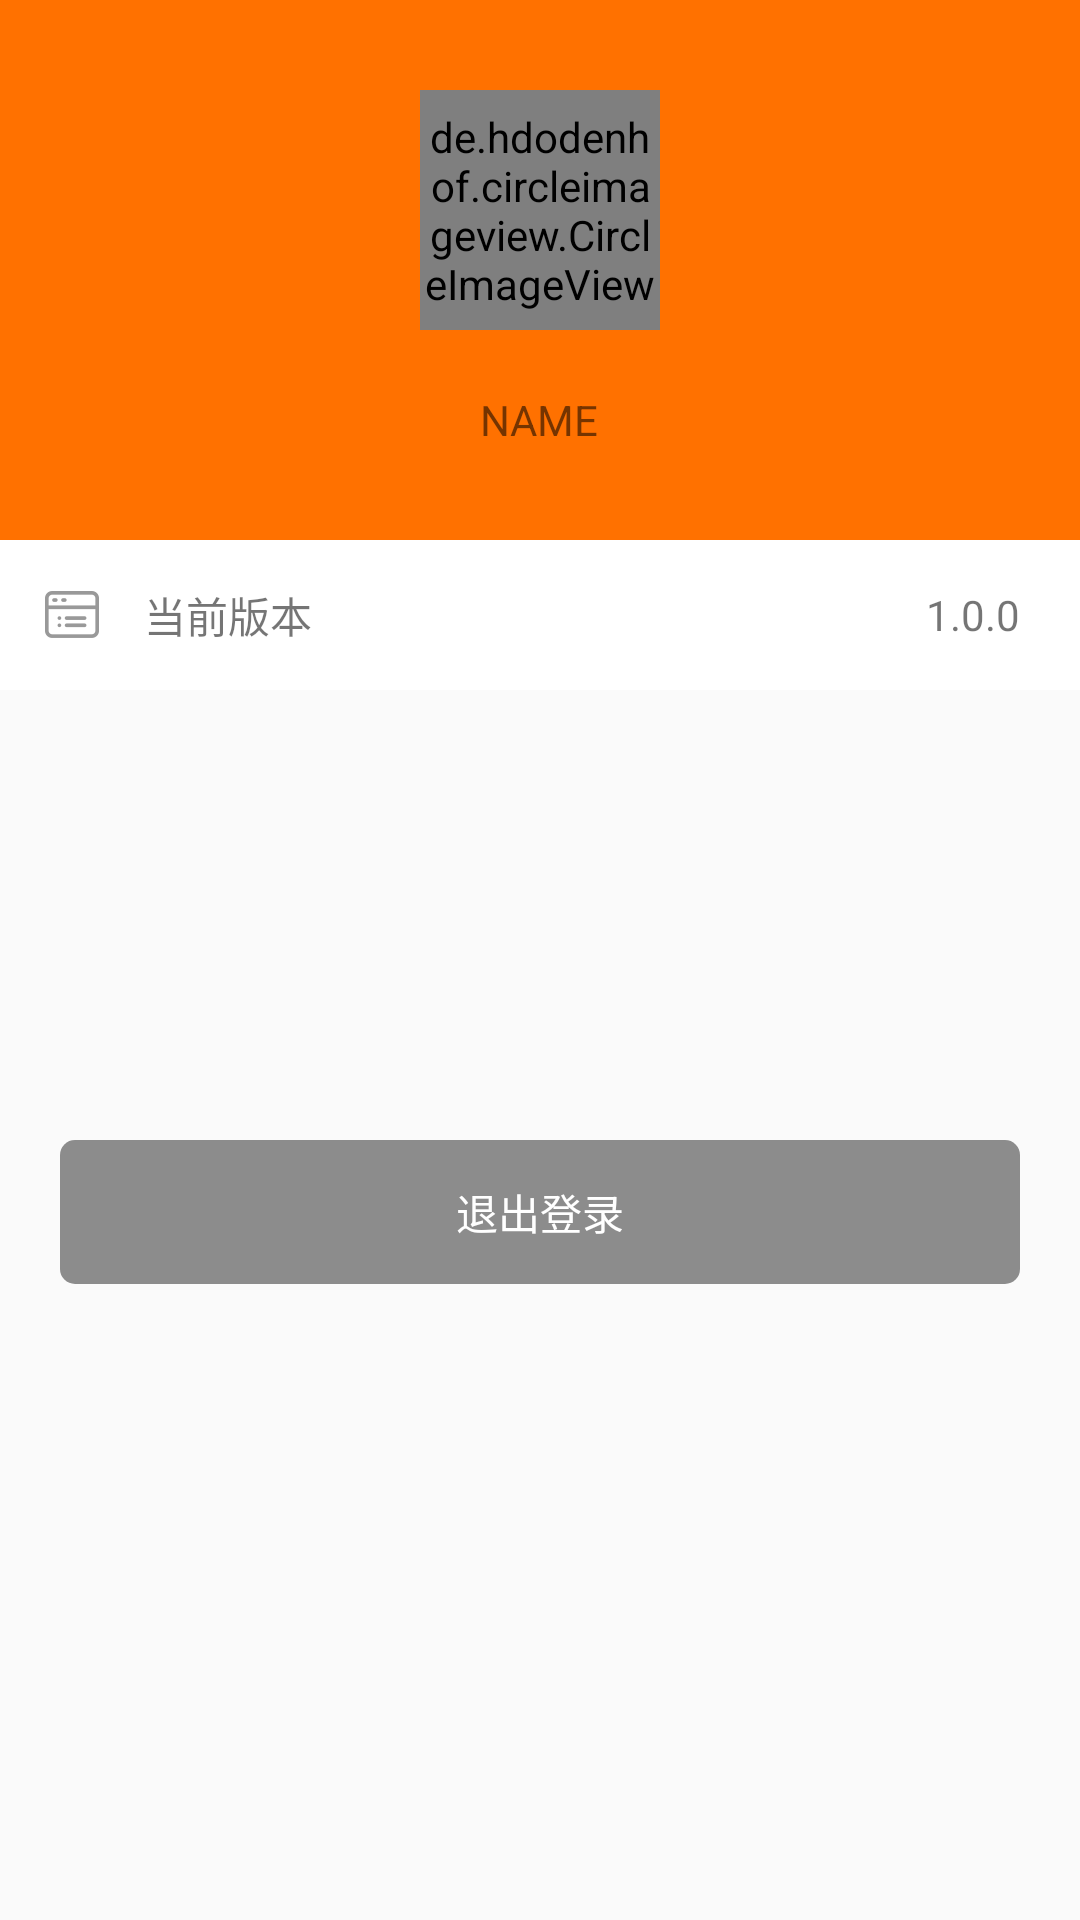

Where to tap for icons on this 1080px×1920px app screen, as (x=x, y=y):
banben: (x=72, y=614)
